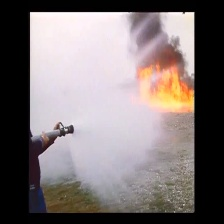fire: (134, 57, 196, 121)
